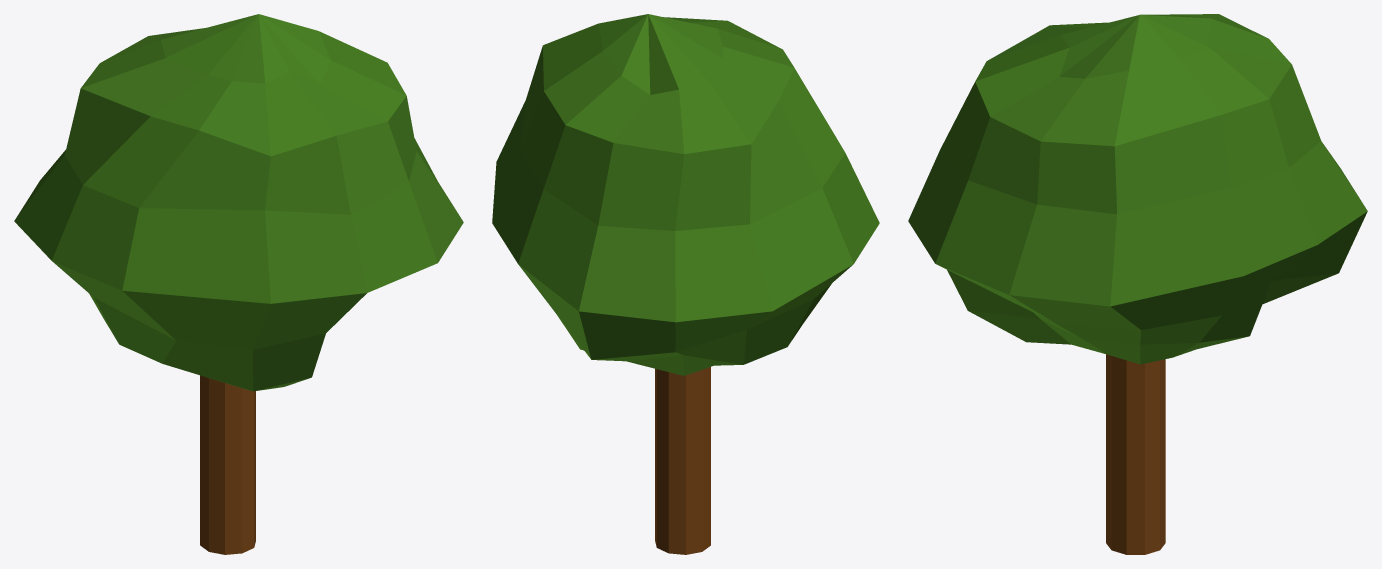
Rendered from arvore1.fbx.
3 views of the same model, side by side, from view 1: azimuth 30°, elevation 25°; view 2: azimuth 150°, elevation 25°; view 3: azimuth 270°, elevation 25° (orthographic). The views are drawn at different scales.
Parts seen in each view (by area): view 1: Cylinder; view 2: Cylinder; view 3: Cylinder.
Boxes of the visible parts, box(x1,y1,x2,y2) form: Cylinder: box(14, 14, 463, 554); Cylinder: box(492, 14, 879, 554); Cylinder: box(908, 14, 1367, 554).
Bounding box in the file's own units: 361 × 483 × 370.
